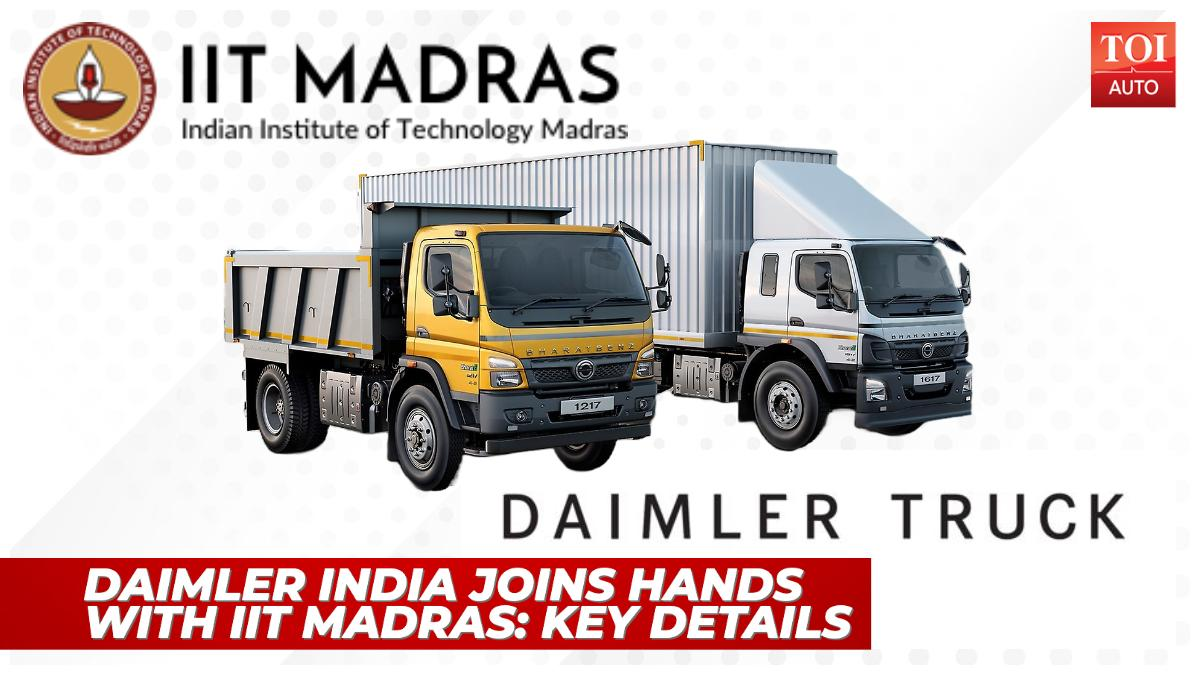truck: (362, 137, 977, 454), (217, 199, 659, 483)
